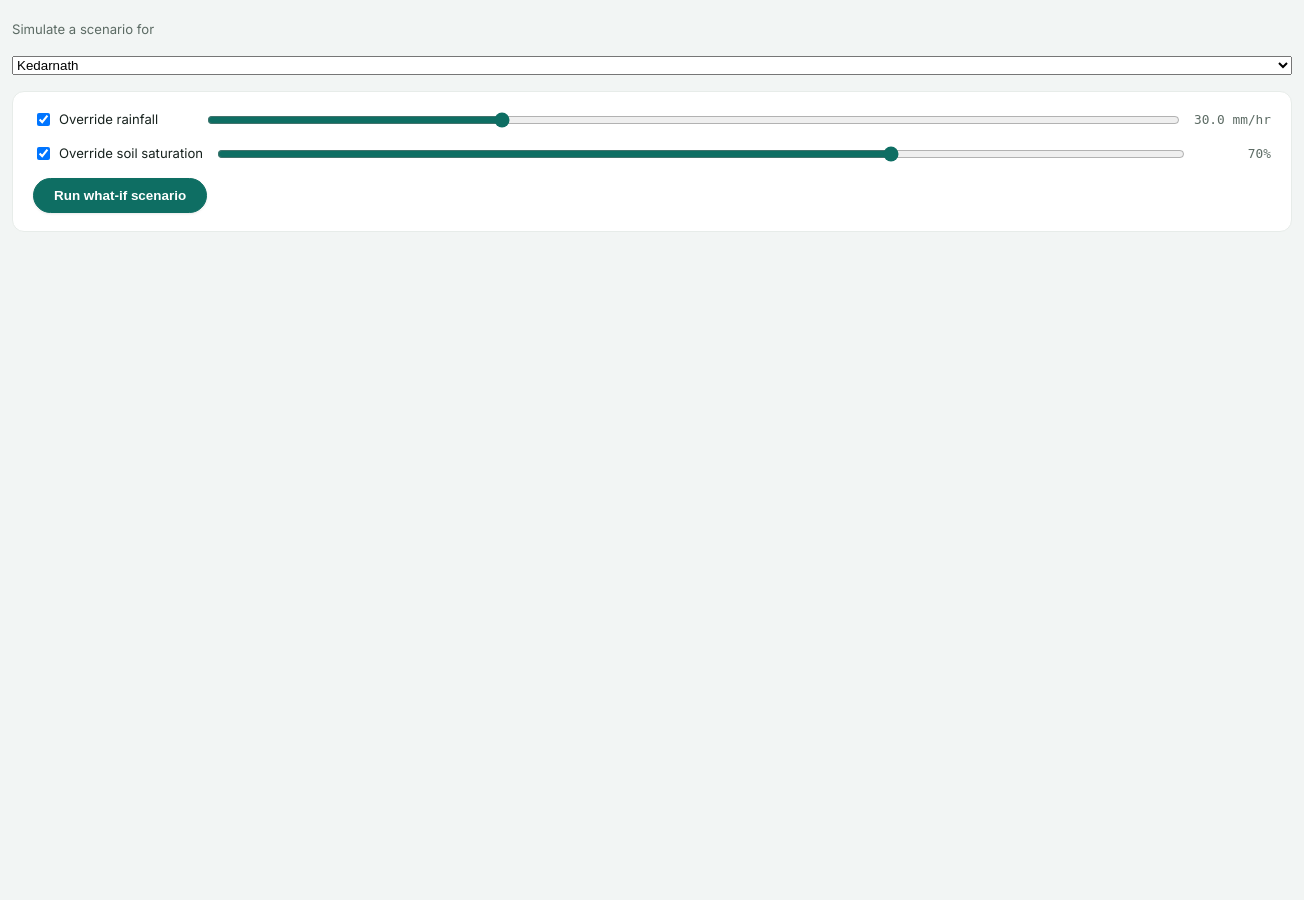
WhatIfPanel › shows the SCS-CN runoff comparison, which responds to the overrides unlike the risk score alone
Click the button "Run what-if scenario". click: (120, 195)
box: [33,178,207,213]
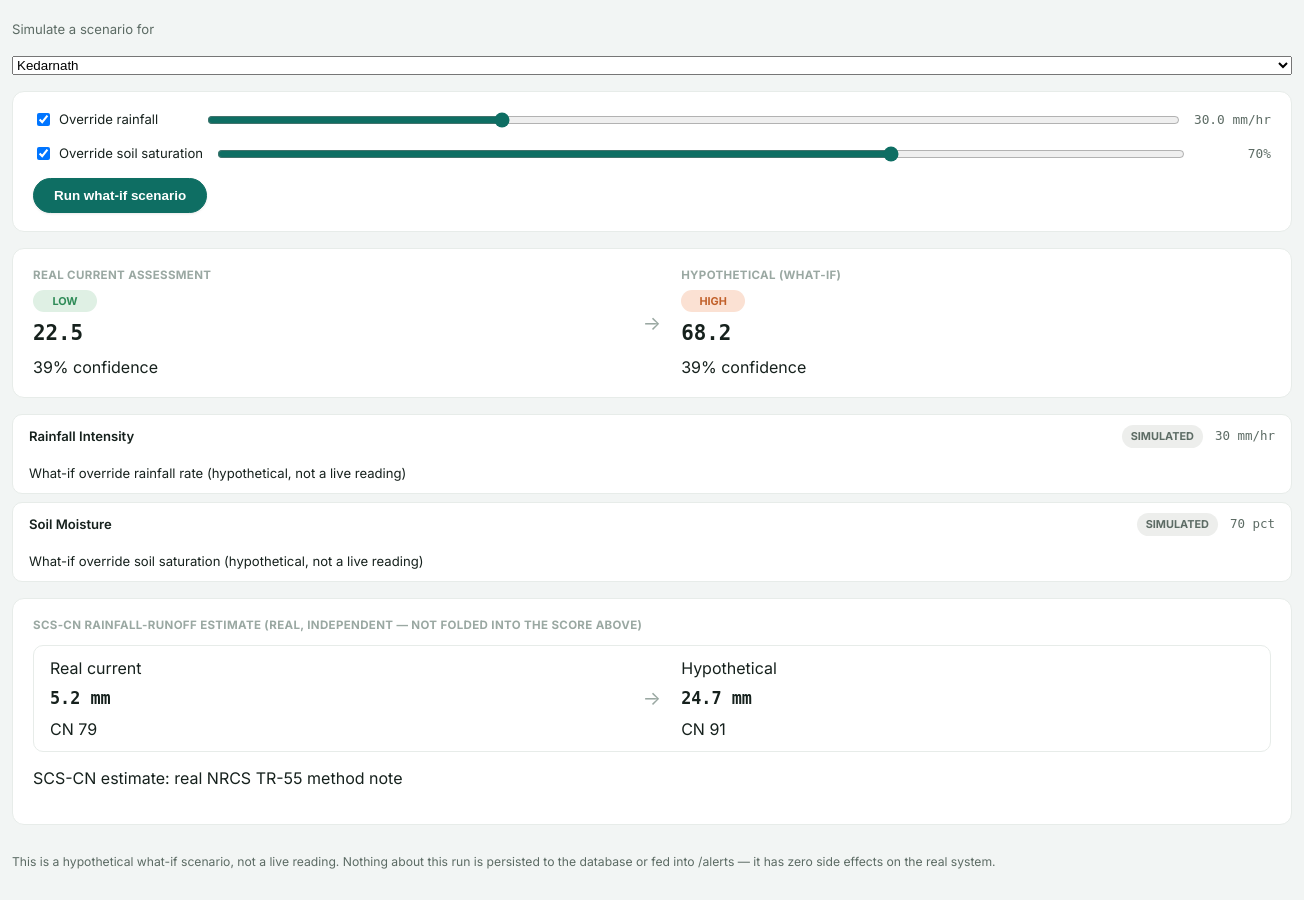
Expected: the text "SCS-CN rainfall-runoff estimate" is shown, [33,618,642,632]
Expected: the text "5.2 mm" is shown, [50,686,111,711]
Expected: the text "24.7 mm" is shown, [681,686,752,711]
